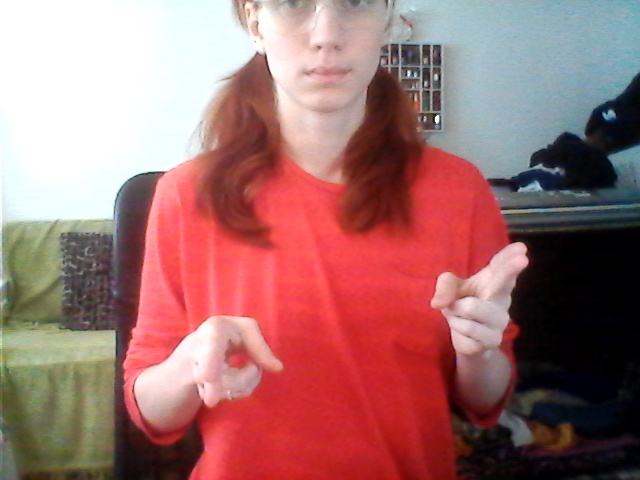ako: (188, 237, 540, 422)
